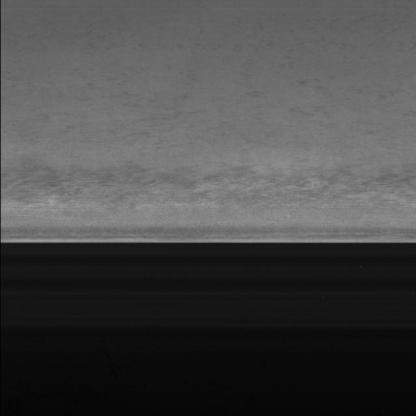silk_spot: (20, 159, 386, 210)
